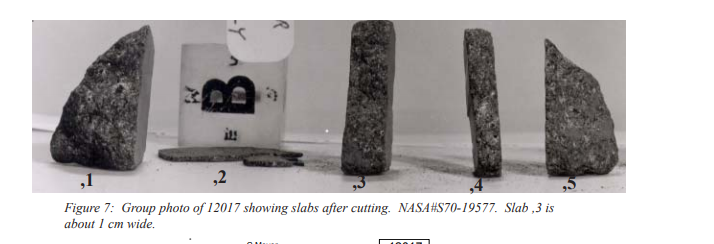Basalt: (30, 18, 155, 166), (534, 26, 623, 175), (450, 20, 512, 175), (344, 19, 396, 170), (155, 133, 309, 166)
